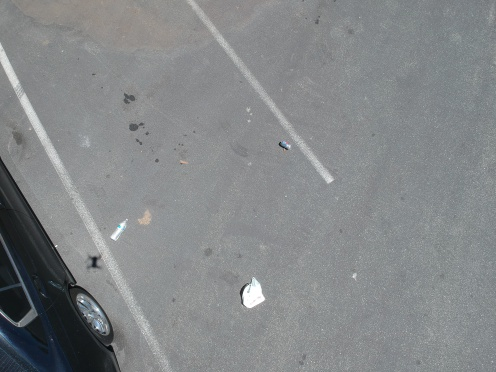bottle: (106, 213, 132, 242)
can: (276, 137, 293, 150)
plastic bag: (233, 273, 271, 307)
